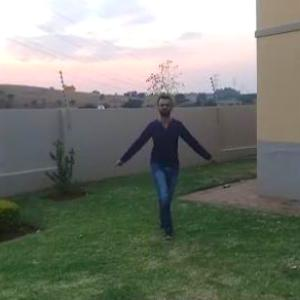land: (121, 97, 208, 220)
